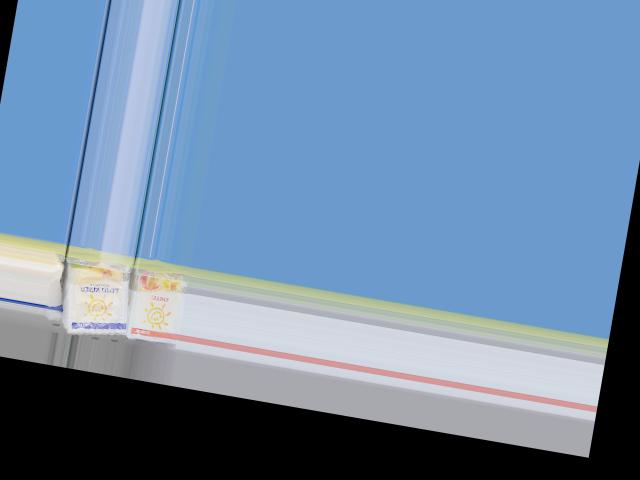cheese: (124, 257, 192, 350)
